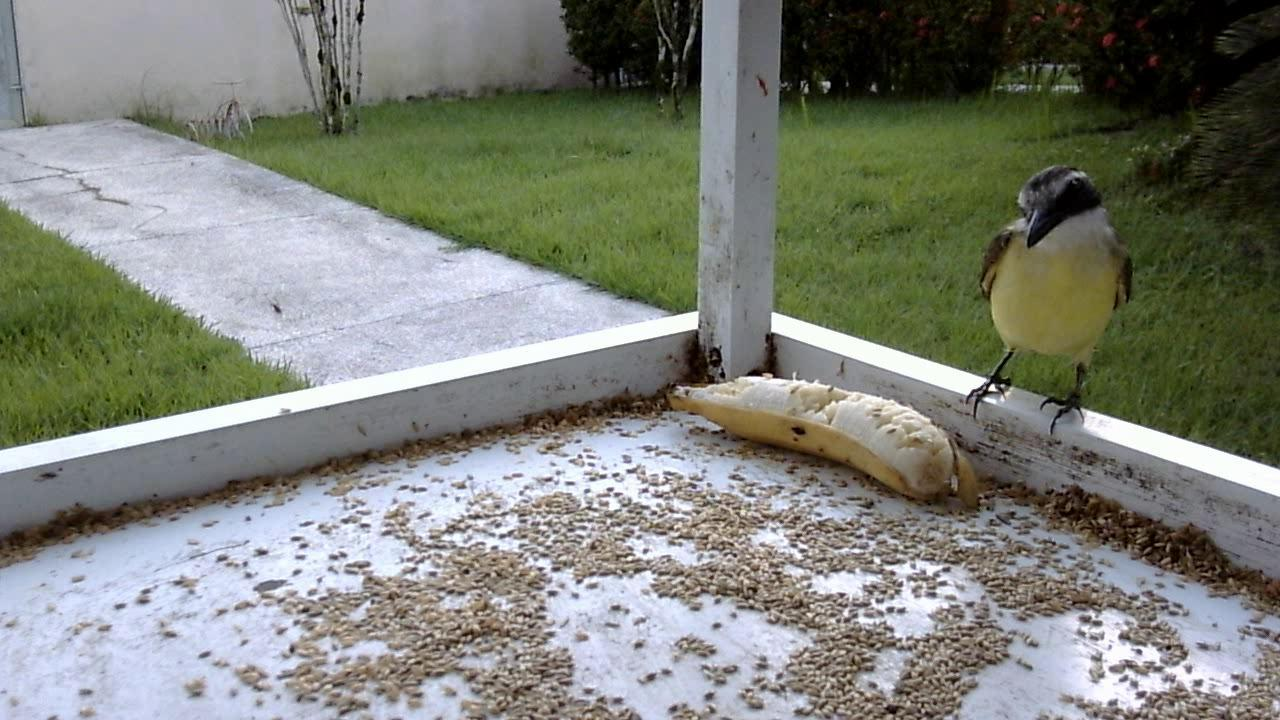bem_te_vi: (958, 157, 1138, 445)
